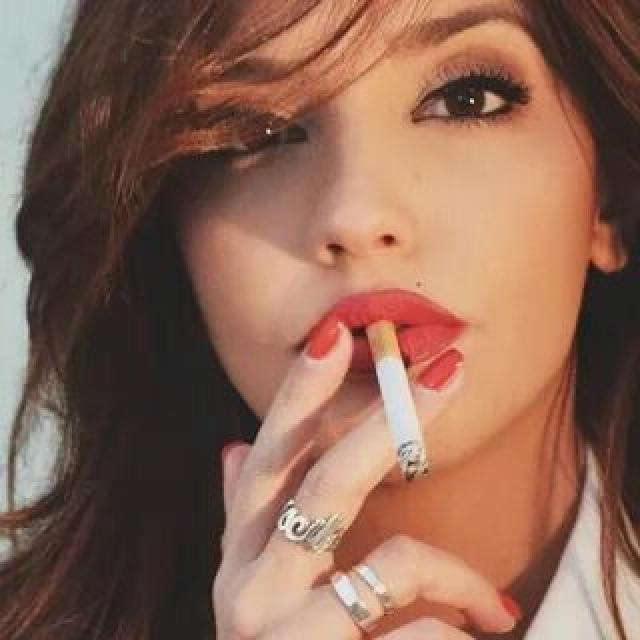cigarette: (362, 312, 434, 484)
